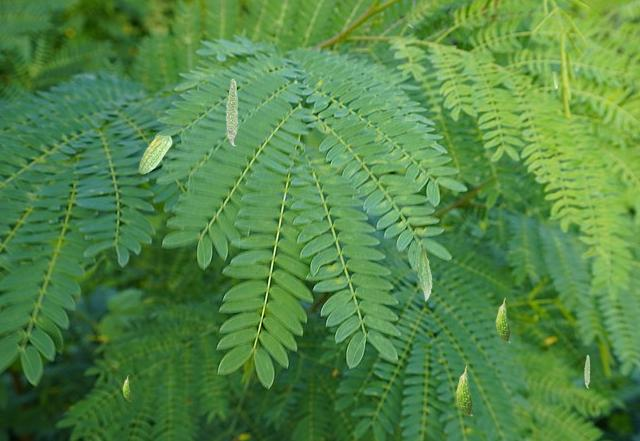ampalaya: (138, 134, 172, 174), (455, 365, 473, 416), (416, 245, 432, 301), (225, 78, 238, 146), (495, 297, 511, 343), (122, 374, 131, 402), (583, 354, 590, 388), (552, 69, 558, 88)
